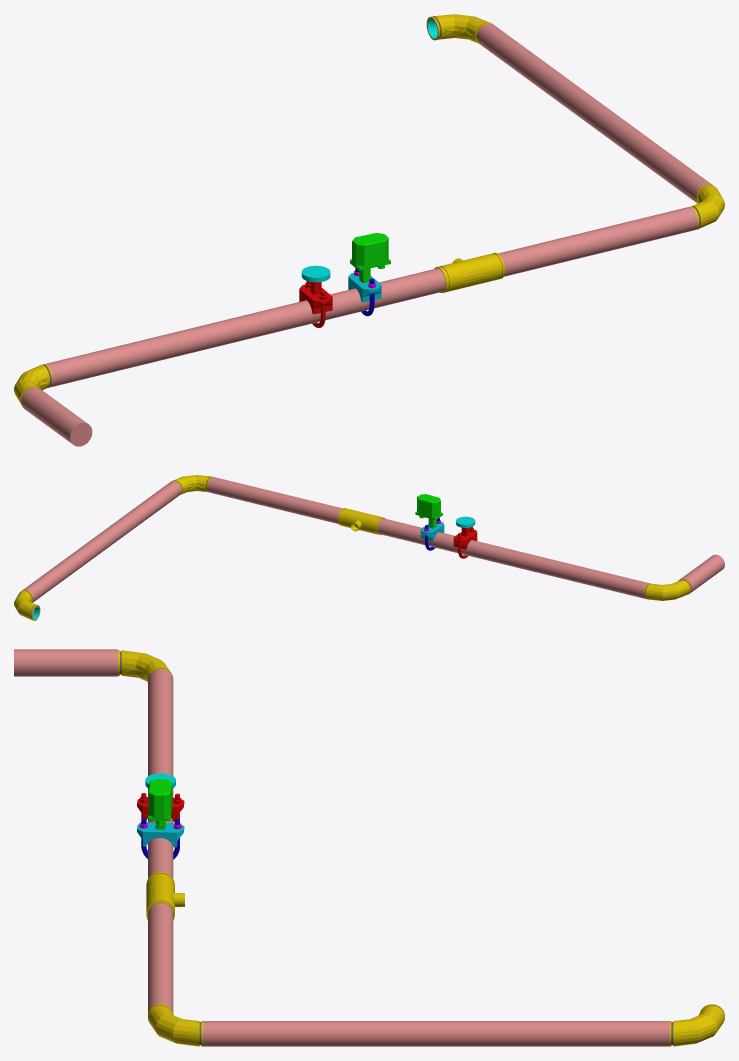
File: descarga.glb
The picture shows the model from 3 angles, top to bottom: view 1: azimuth 30°, elevation 25°; view 2: azimuth 150°, elevation 25°; view 3: azimuth 270°, elevation 25°; orthographic projection. The views are drawn at different scales.
Parts seen in each view (by area): view 1: n52_p0_255_92_92, n56_p0_255_92_92, n54_p0_255_92_92, n78_p0_0_255_0, n62_p0_255_191_0, n6_p0_255_191_0, n22_p0_255_191_0, n38_p0_255_191_0, n72_p0_255_191_0; view 2: n52_p0_255_92_92, n56_p0_255_92_92, n54_p0_255_92_92, n38_p0_255_191_0, n78_p0_0_255_0, n22_p0_255_191_0, n72_p0_255_191_0, n62_p0_255_191_0, n6_p0_255_191_0, n76_p0_0_191_255; view 3: n56_p0_255_92_92, n52_p0_255_92_92, n54_p0_255_92_92, n22_p0_255_191_0, n6_p0_255_191_0, n78_p0_0_255_0, n38_p0_255_191_0, n76_p0_0_191_255, n62_p0_255_191_0.
Part boxes in pixels (x1,y1,x2,y2): n52_p0_255_92_92: [43, 206, 697, 387]; n56_p0_255_92_92: [477, 23, 712, 203]; n54_p0_255_92_92: [21, 387, 92, 446]; n78_p0_0_255_0: [350, 233, 390, 283]; n62_p0_255_191_0: [439, 253, 501, 292]; n6_p0_255_191_0: [432, 14, 491, 43]; n22_p0_255_191_0: [692, 185, 724, 229]; n38_p0_255_191_0: [14, 365, 49, 404]; n72_p0_255_191_0: [447, 253, 501, 291]; n52_p0_255_92_92: [207, 477, 649, 599]; n56_p0_255_92_92: [22, 481, 181, 602]; n54_p0_255_92_92: [678, 554, 724, 594]; n38_p0_255_191_0: [645, 580, 690, 600]; n78_p0_0_255_0: [415, 494, 442, 528]; n22_p0_255_191_0: [171, 475, 211, 494]; n72_p0_255_191_0: [340, 509, 377, 534]; n62_p0_255_191_0: [340, 508, 381, 534]; n6_p0_255_191_0: [14, 590, 36, 619]; n76_p0_0_191_255: [420, 522, 444, 541]; n56_p0_255_92_92: [203, 1021, 669, 1046]; n52_p0_255_92_92: [148, 668, 173, 1013]; n54_p0_255_92_92: [14, 649, 117, 676]; n22_p0_255_191_0: [148, 1005, 199, 1046]; n6_p0_255_191_0: [673, 1005, 724, 1046]; n78_p0_0_255_0: [148, 779, 172, 829]; n38_p0_255_191_0: [121, 650, 173, 682]; n76_p0_0_191_255: [137, 822, 184, 847]; n62_p0_255_191_0: [146, 874, 174, 914].
Size of the model in its own units: 3.36 by 0.3278 by 2.64.
